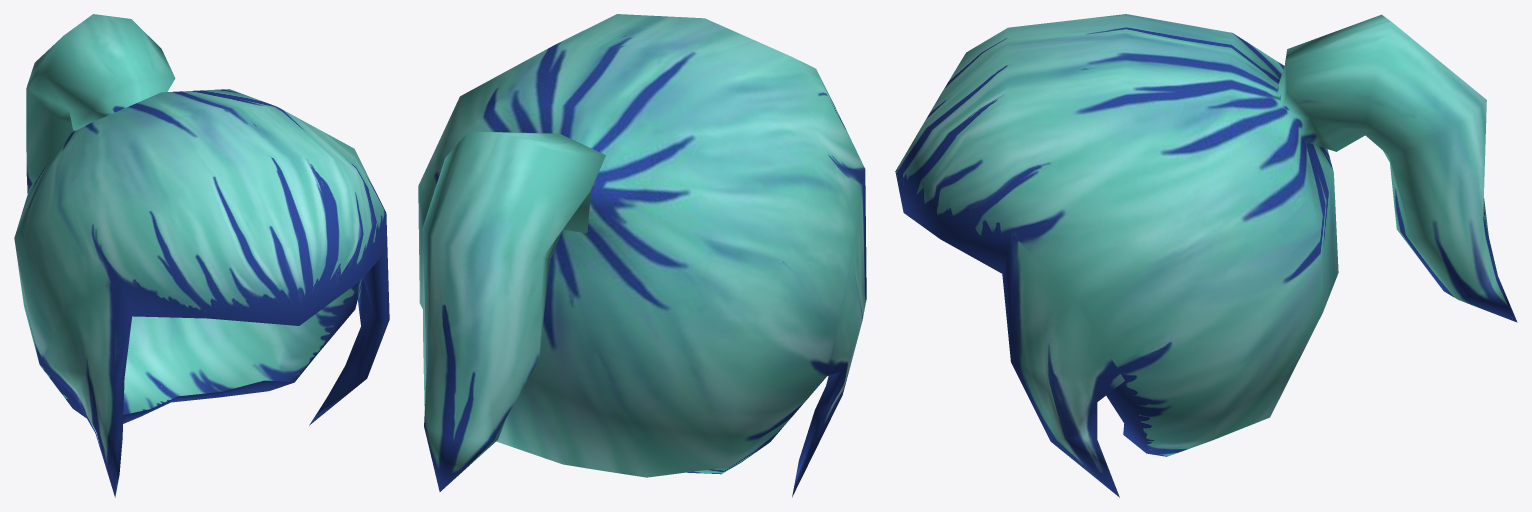
File: Hair_Girl_Style_05_UV_v003.fbx
3 views of the same model, side by side, from view 1: azimuth 30°, elevation 25°; view 2: azimuth 150°, elevation 25°; view 3: azimuth 270°, elevation 25° (orthographic). The views are drawn at different scales.
Parts seen in each view (by area): view 1: polySurface1; view 2: polySurface1; view 3: polySurface1.
Boxes of the visible parts, x1=… form: polySurface1: x1=14, y1=14, x2=389, y2=497; polySurface1: x1=418, y1=14, x2=866, y2=497; polySurface1: x1=895, y1=14, x2=1517, y2=497.
Bounding box in the file's own units: 2.89 × 3.23 × 4.22.
1 material, 1 textured.
